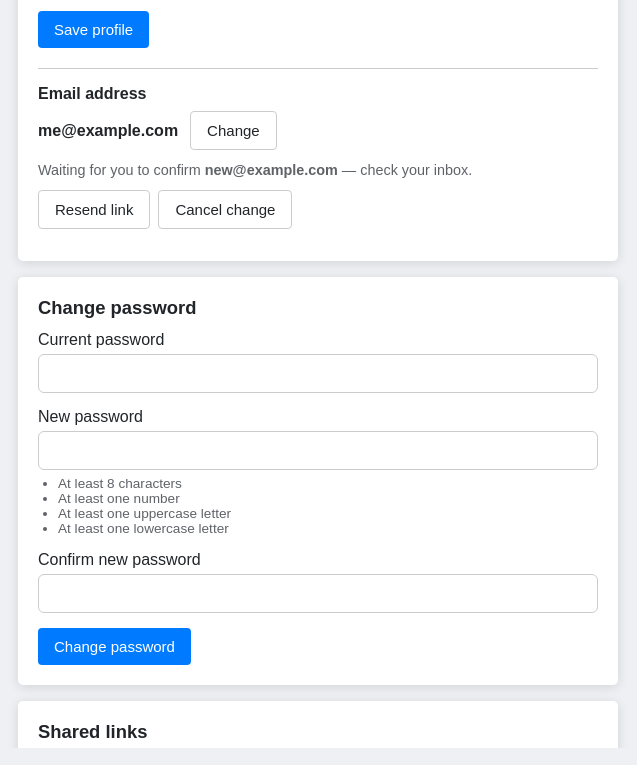
Test case: Settings › drops the pending email note after the password is changed (the server cancels the change)
The width and height of the screenshot is (637, 765).
(page scrolled)
Expected: the text "Waiting for you to confirm" shows "new@example.com", [205,162,338,178]
Type "OldPassw0rd" into the password field labelled "Current password" at (318, 374), box [38,354,598,393]
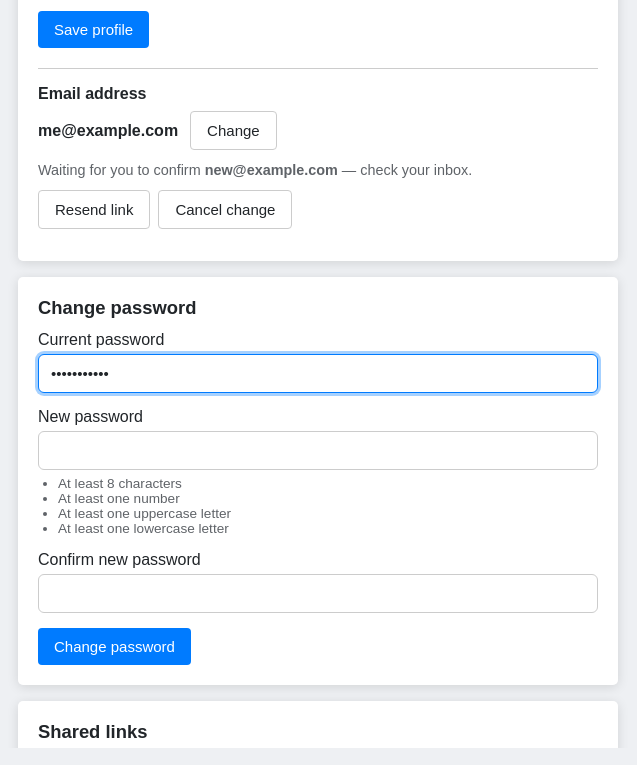
Type "N3wPassword!" into the password field labelled "New password" at (318, 450), box [38,431,598,470]
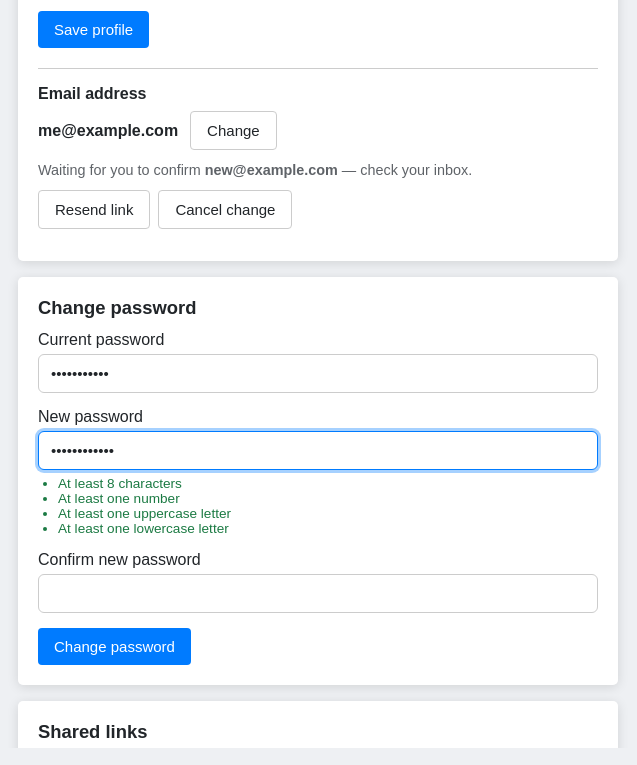
Type "N3wPassword!" into the password field labelled "Confirm new password" at (318, 594), box [38,574,598,613]
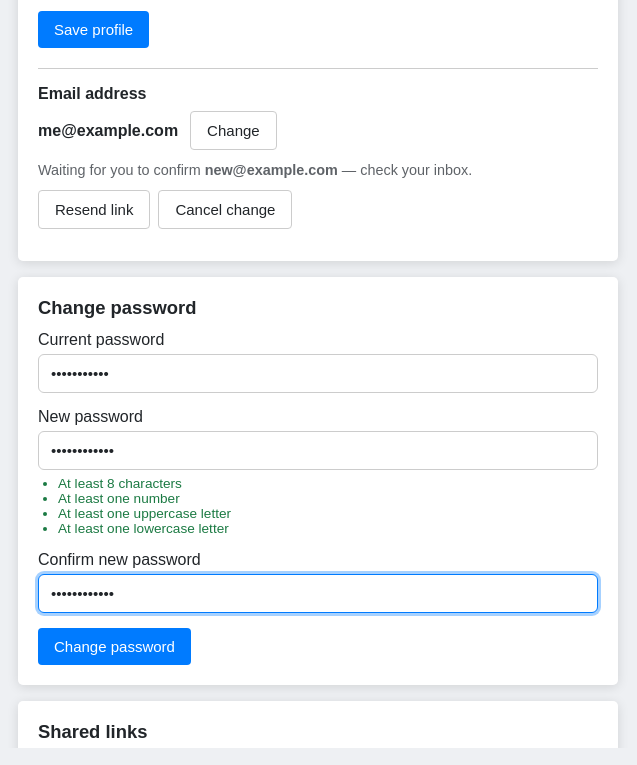
Click the button "Change password" at (114, 646), box [38,628,191,665]
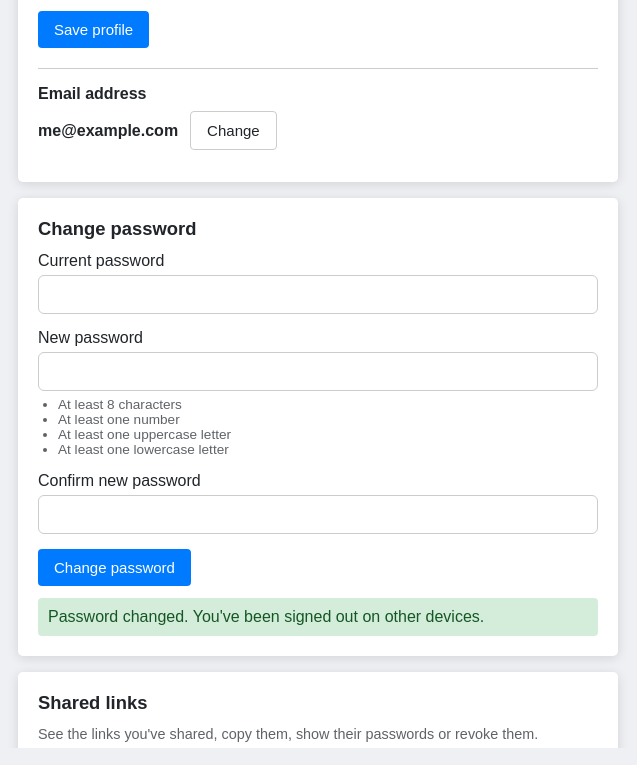
Expected: the text "Waiting for you to confirm" is gone
